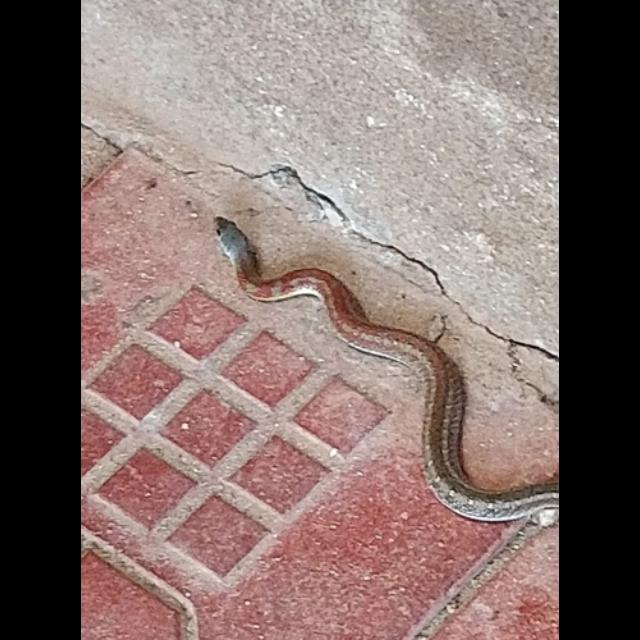snake: (208, 208, 560, 528)
